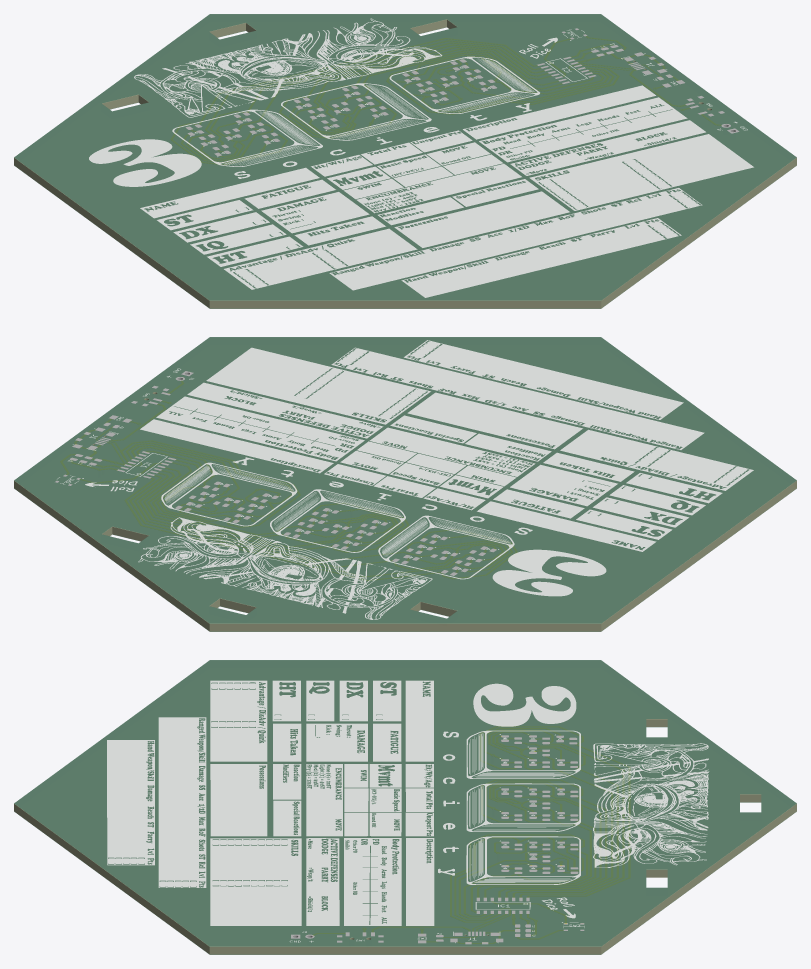
The model's file is 3d6-badge.glb.
The picture shows the model from 3 angles, top to bottom: view 1: azimuth 30°, elevation 25°; view 2: azimuth 150°, elevation 25°; view 3: azimuth 270°, elevation 25°; orthographic projection.
Visible parts, largest first — view 1: =>[0:1:1:7], =>[0:1:1:5], =>[0:1:1:9], =>[0:1:1:2]; view 2: =>[0:1:1:7], =>[0:1:1:9], =>[0:1:1:5], =>[0:1:1:2]; view 3: =>[0:1:1:7], =>[0:1:1:9], =>[0:1:1:5], =>[0:1:1:2].
Part boxes in pixels (left/top/right/bottom): =>[0:1:1:7]: left=14, top=14, right=796, bottom=308; =>[0:1:1:5]: left=89, top=18, right=753, bottom=297; =>[0:1:1:9]: left=14, top=15, right=796, bottom=308; =>[0:1:1:2]: left=171, top=28, right=739, bottom=163; =>[0:1:1:7]: left=14, top=337, right=796, bottom=631; =>[0:1:1:9]: left=14, top=338, right=796, bottom=631; =>[0:1:1:5]: left=57, top=340, right=753, bottom=619; =>[0:1:1:2]: left=55, top=371, right=516, bottom=580; =>[0:1:1:7]: left=14, top=660, right=796, bottom=954; =>[0:1:1:9]: left=14, top=661, right=796, bottom=954; =>[0:1:1:5]: left=107, top=680, right=709, bottom=942; =>[0:1:1:2]: left=291, top=727, right=629, bottom=944.
Bounding box in the file's own units: 0.1212 × 0.00166 × 0.14.
4 materials, 4 textured.
